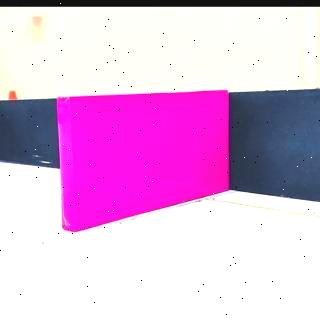xparking: (58, 93, 230, 210)
